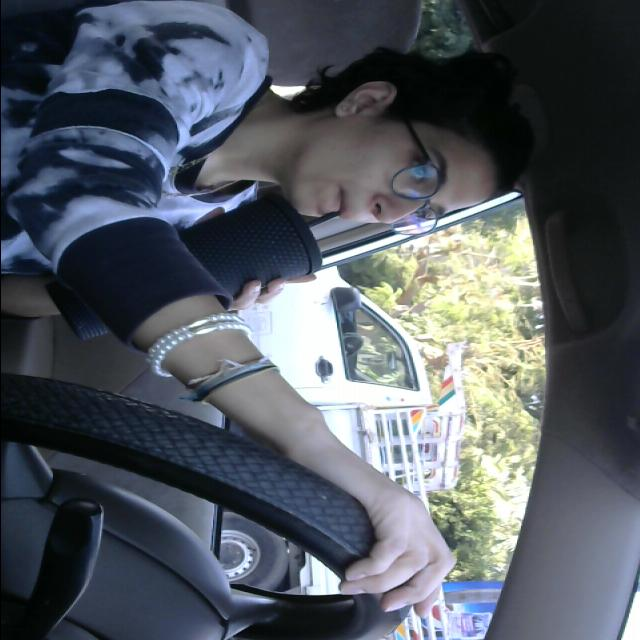drinking: (50, 192, 348, 344)
